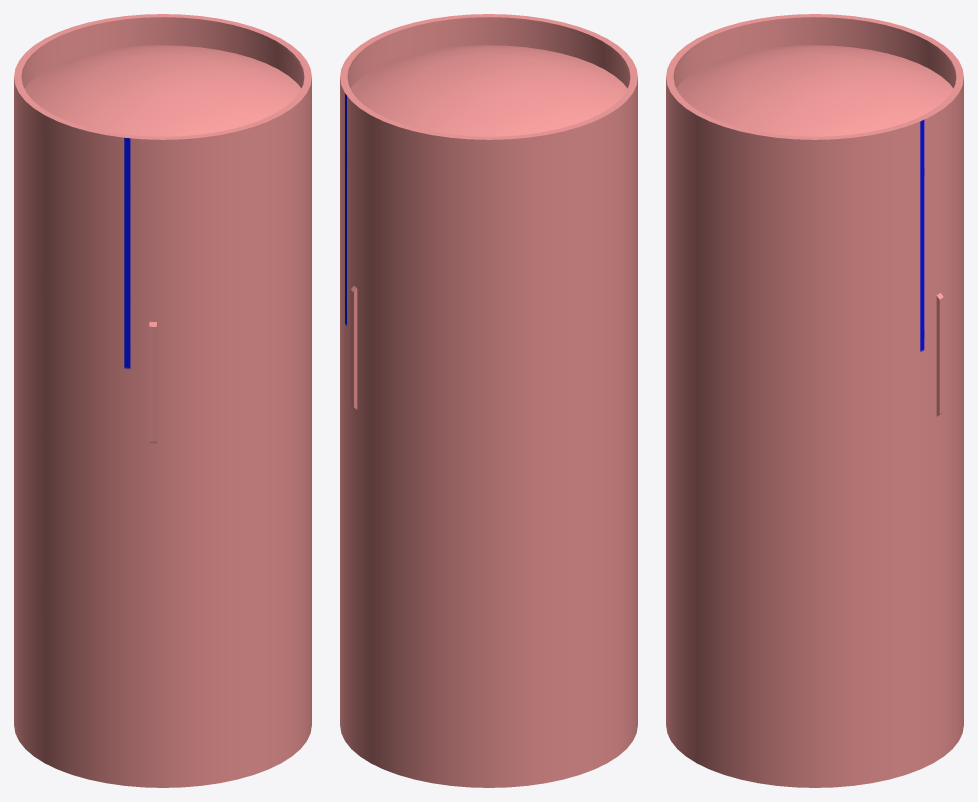
The model's file is RLV_LFO_2.obj.
The picture shows the model from 3 angles, left to right: view 1: azimuth 30°, elevation 25°; view 2: azimuth 150°, elevation 25°; view 3: azimuth 270°, elevation 25°; orthographic projection.
Parts seen in each view (by area): view 1: RLV_LFO_2; view 2: RLV_LFO_2; view 3: RLV_LFO_2.
Boxes of the visible parts, box(x1,y1,x2,y2) form: RLV_LFO_2: box(14, 14, 311, 787); RLV_LFO_2: box(340, 14, 637, 787); RLV_LFO_2: box(666, 14, 963, 787).
Size of the model in its own units: 5 by 12 by 5.
